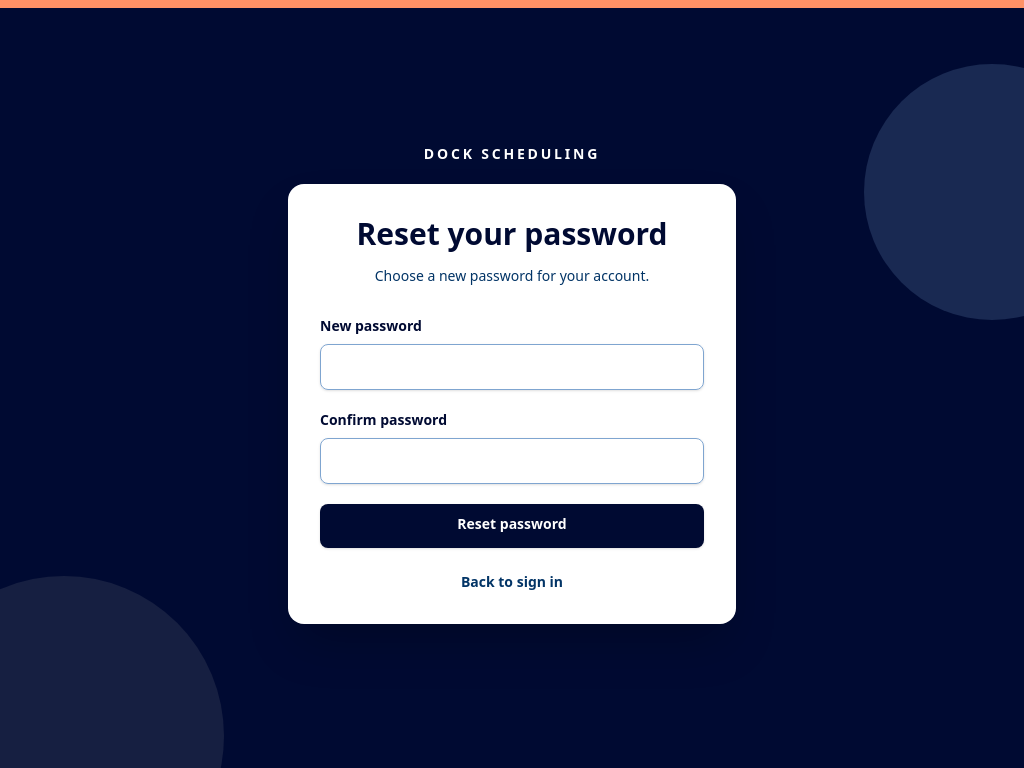
Test: ResetPasswordPage › requires at least 12 password characters
Type "short value" into the password field labelled "New password" at (512, 367), box [320,344,704,390]
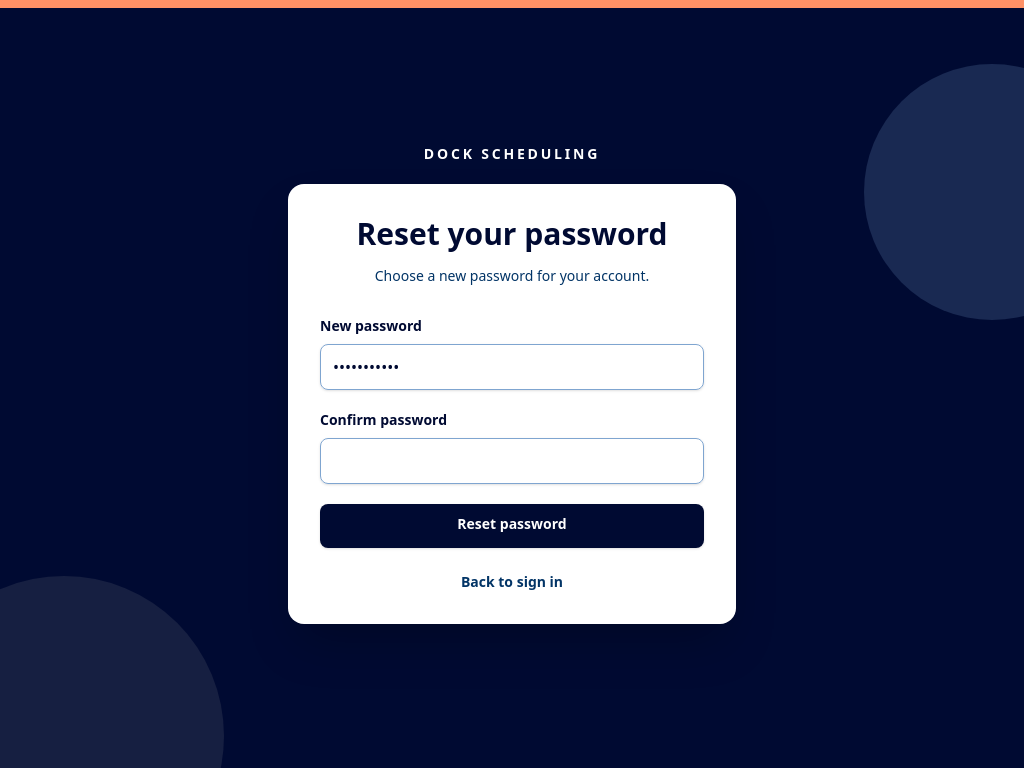
Type "short value" into the password field labelled "Confirm password" at (512, 461), box [320,438,704,484]
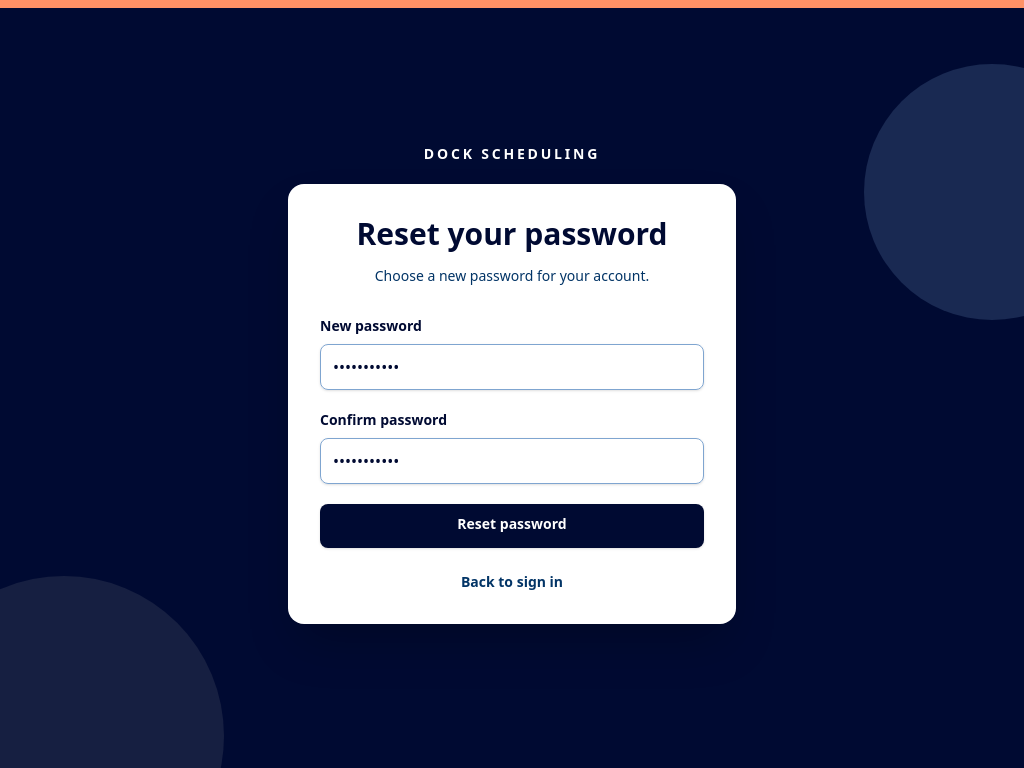
Click the button "Reset password" at (512, 526), box [320,504,704,548]
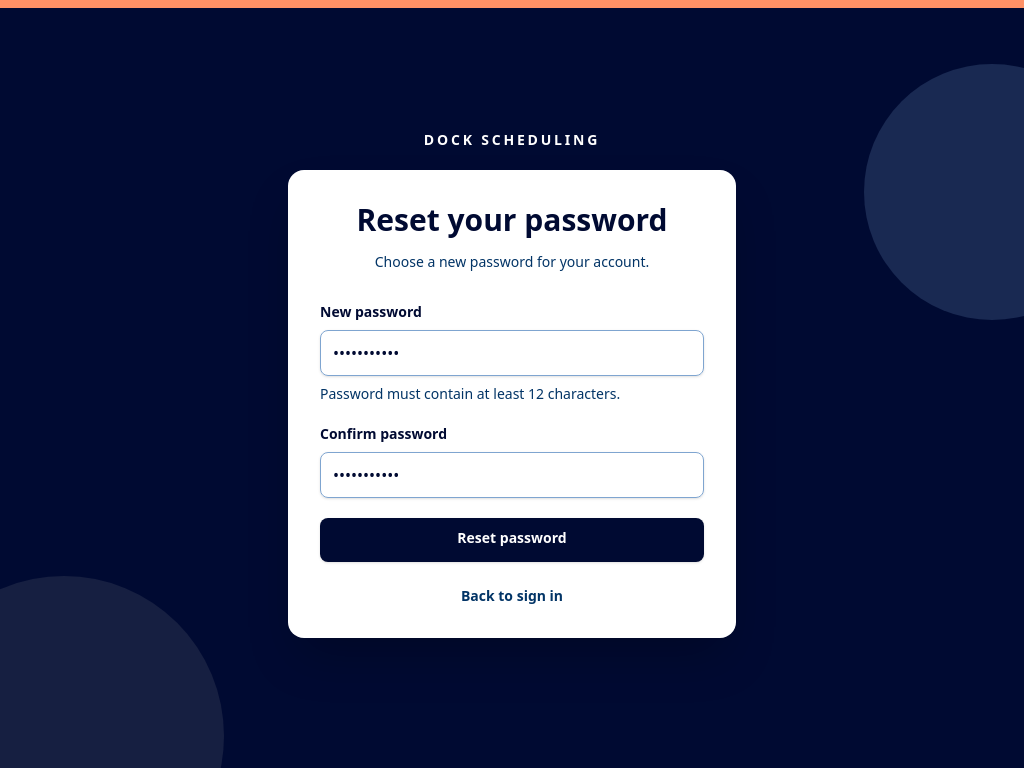
Expected: the text "Password must contain at least 12 characters." is shown, [320,384,620,403]
